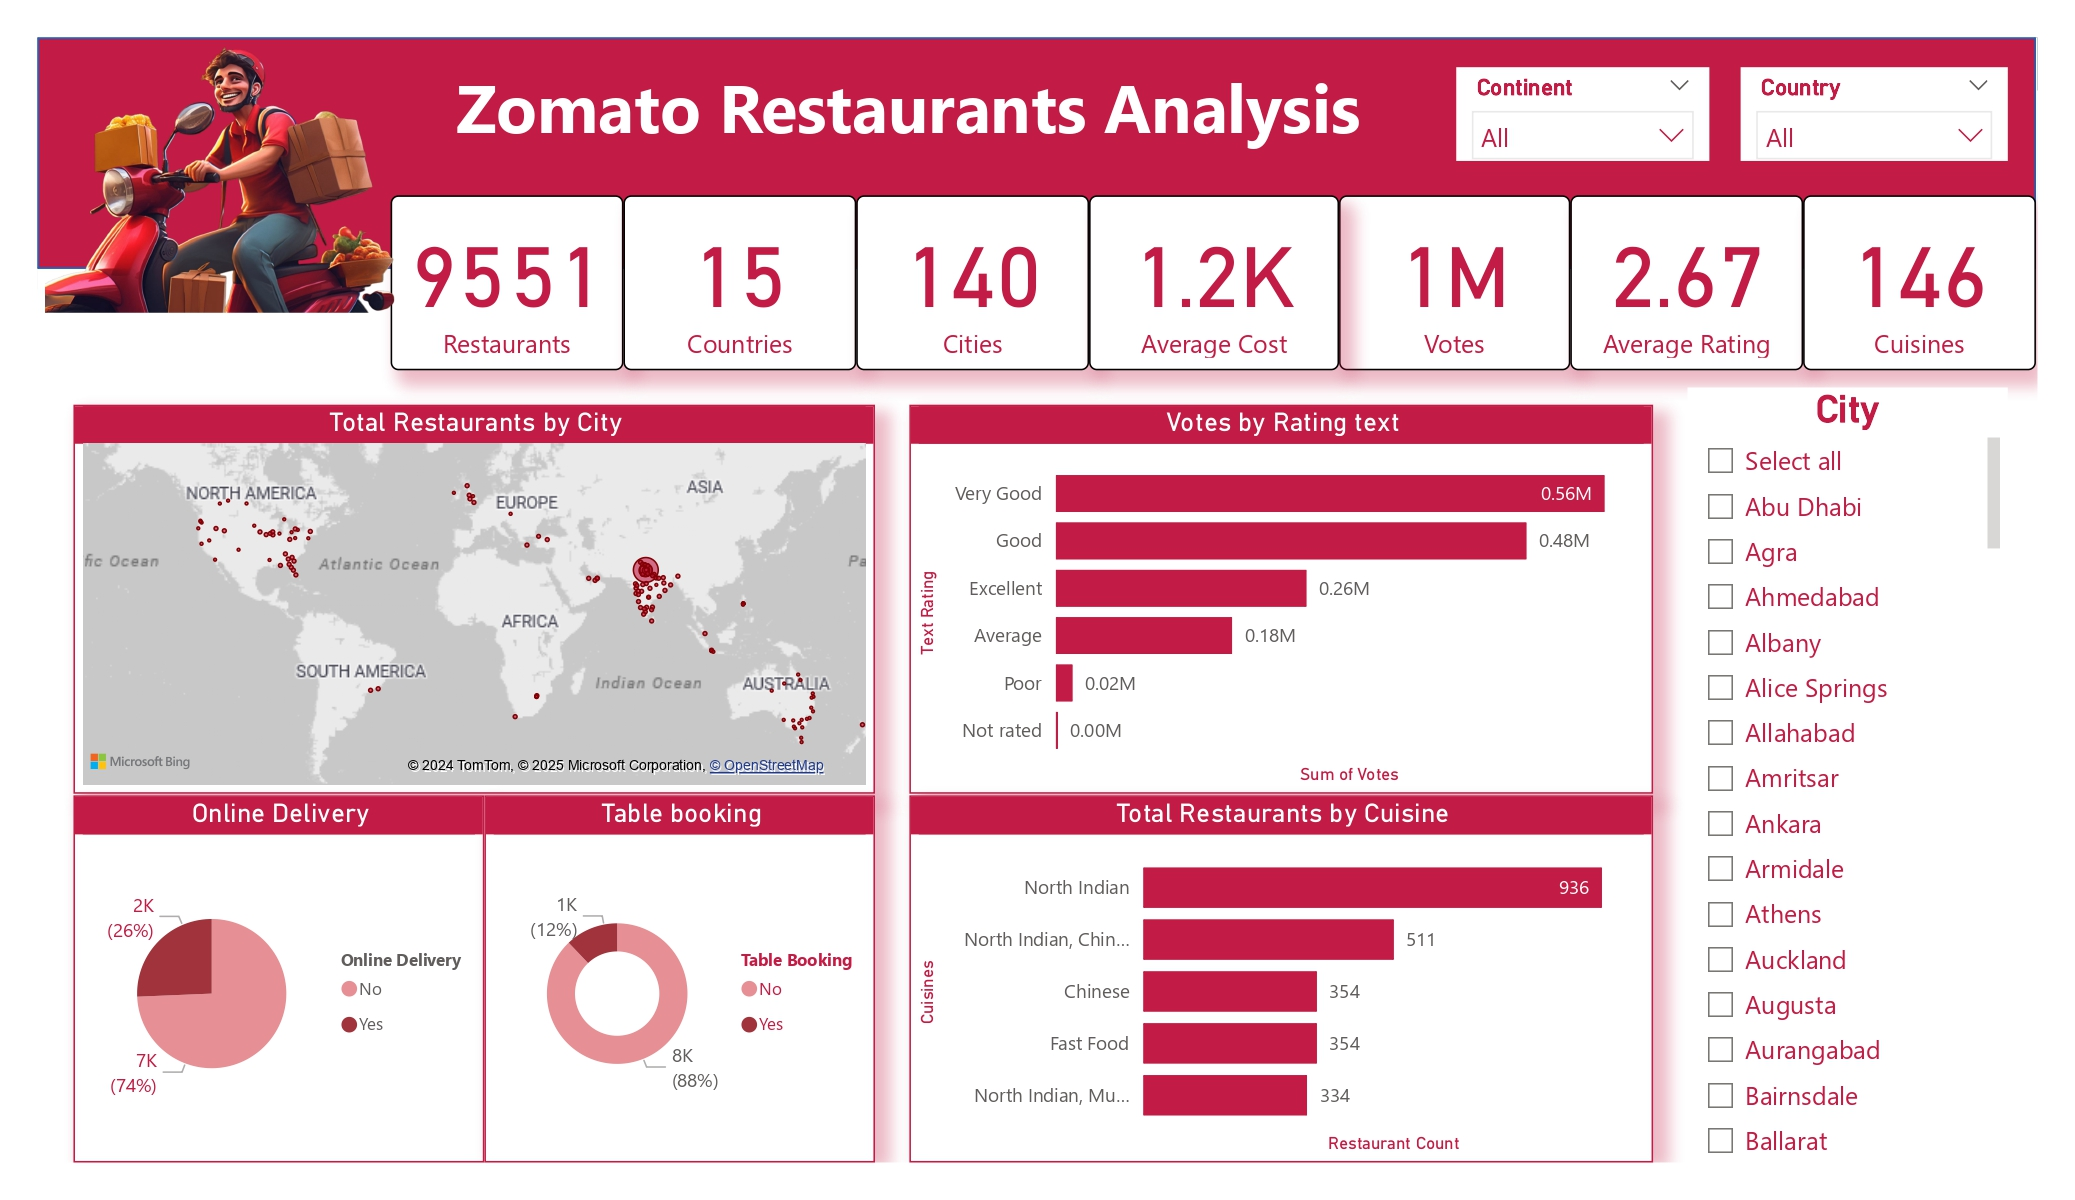

The dashboard page shown, as its layout file describes it:
{"tool":"powerbi","page":{"name":"Page 1","canvas":[1280,720],"ordinal":0},"visuals":[{"type":"shape","box":[0,0,1278.8,147.5],"z":0},{"type":"card","fields":{"Values":["Zomato Global.Restaurant Count"]},"box":[226.2,101.2,148.8,111.2],"z":1000},{"type":"card","fields":{"Values":["Sum(Fact Table.Votes)"]},"box":[832.5,101.2,148.8,111.2],"z":2000},{"type":"card","fields":{"Values":["Fact Table.Average Rating"]},"box":[981.2,101.2,148.8,111.2],"z":3000},{"type":"card","fields":{"Values":["Cuisines.Cuisine Count"]},"box":[1130,101.2,148.8,111.2],"z":4000},{"type":"card","fields":{"Values":["Count(Country Code.Country)"]},"box":[375,101.2,148.8,111.2],"z":5000},{"type":"card","fields":{"Values":["Count(Zomato Global.City)"]},"box":[523.8,101.2,148.8,111.2],"z":6000},{"type":"card","fields":{"Values":["Fact Table.Average Cost"]},"box":[672.5,101.2,160,111.2],"z":7000},{"type":"slicer","fields":{"Values":["Country Code.Continent"]},"box":[907.5,18.8,162.5,60],"z":8000},{"type":"slicer","fields":{"Values":["Country Code.Country"]},"box":[1090,18.8,171.2,60],"z":9000},{"type":"slicer","title":"City","fields":{"Values":["Zomato Global.City"]},"box":[1056.2,223.8,205,496.2],"z":10000},{"type":"clusteredBarChart","title":"Votes by Rating text","fields":{"Category":["Fact Table.Rating text"],"Y":["Sum(Fact Table.Votes)"]},"box":[557.5,235,476.2,248.8],"z":11000},{"type":"map","title":"Total Restaurants by City","fields":{"Category":["Zomato Global.City"],"Size":["Zomato Global.Restaurant Count"]},"box":[22.5,235,513.8,248.8],"z":12000},{"type":"image","box":[0,0,237.5,181.2],"z":12002},{"type":"textbox","box":[237.5,10,638.8,68.8],"z":12003},{"type":"clusteredBarChart","title":"Total Restaurants by Cuisine","fields":{"Category":["Zomato Global.Cuisines"],"Y":["Zomato Global.Restaurant Count"]},"box":[557.5,485,476.2,235],"z":12004},{"type":"pieChart","title":"Online Delivery","fields":{"Category":["Fact Table.Has Online delivery"],"Y":["CountNonNull(Zomato Global.Restaurant ID)"]},"box":[22.5,485,263.8,235],"z":12005},{"type":"donutChart","title":"Table booking","fields":{"Category":["Fact Table.Has Table booking"],"Y":["CountNonNull(Zomato Global.Restaurant ID)"]},"box":[286.2,485,250,235],"z":12006}]}

Visuals, with their boxes in screenshot pixels (x1, y1, x2, y2):
shape: rect(38, 38, 2036, 268)
card - Zomato Global.Restaurant Count: rect(391, 196, 623, 369)
card - Sum(Fact Table.Votes): rect(1338, 196, 1571, 369)
card - Fact Table.Average Rating: rect(1571, 196, 1803, 369)
card - Cuisines.Cuisine Count: rect(1803, 196, 2036, 369)
card - Count(Country Code.Country): rect(623, 196, 856, 369)
card - Count(Zomato Global.City): rect(856, 196, 1088, 369)
card - Fact Table.Average Cost: rect(1088, 196, 1338, 369)
slicer - Country Code.Continent: rect(1455, 67, 1709, 161)
slicer - Country Code.Country: rect(1741, 67, 2008, 161)
"City" slicer: rect(1688, 387, 2008, 1162)
"Votes by Rating text" clusteredBarChart: rect(909, 405, 1653, 793)
"Total Restaurants by City" map: rect(73, 405, 875, 793)
image: rect(38, 38, 409, 321)
textbox: rect(409, 53, 1407, 161)
"Total Restaurants by Cuisine" clusteredBarChart: rect(909, 795, 1653, 1162)
"Online Delivery" pieChart: rect(73, 795, 485, 1162)
"Table booking" donutChart: rect(485, 795, 875, 1162)
